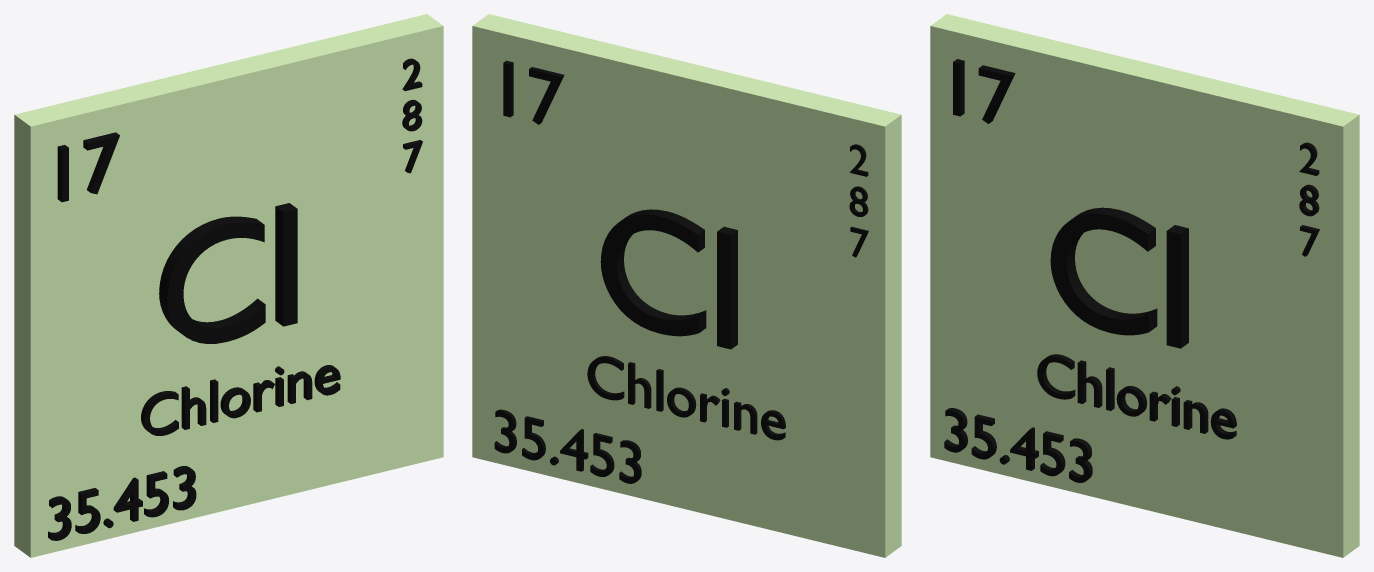
The model's file is chlorineText_01.fbx.
3 views of the same model, side by side, from view 1: azimuth 30°, elevation 25°; view 2: azimuth 150°, elevation 25°; view 3: azimuth 330°, elevation 25° (orthographic).
Parts seen in each view (by area): view 1: Text.028; view 2: Text.028; view 3: Text.028.
Boxes of the visible parts, x1,y1,x2,y2 form: Text.028: (14,14,443,557); Text.028: (472,14,901,557); Text.028: (930,14,1359,557).
Bounding box in the file's own units: 26.38 × 26.35 × 3.5.
